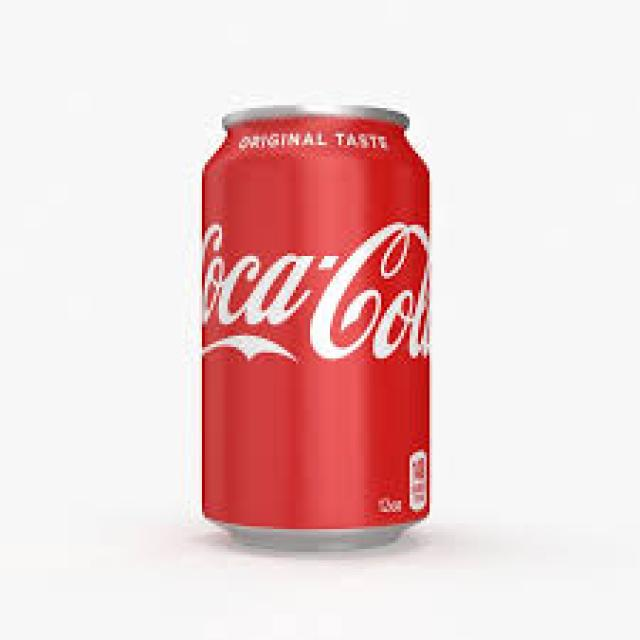Coca-Cola: (193, 95, 444, 561)
